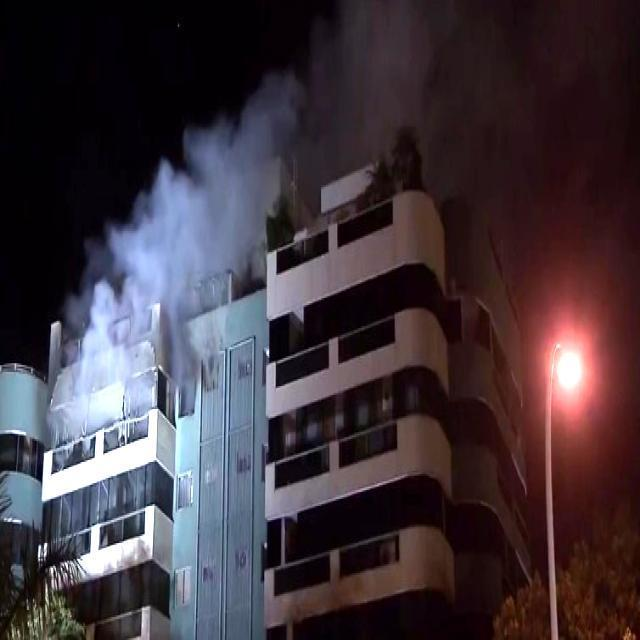Smoke: (60, 39, 313, 436)
